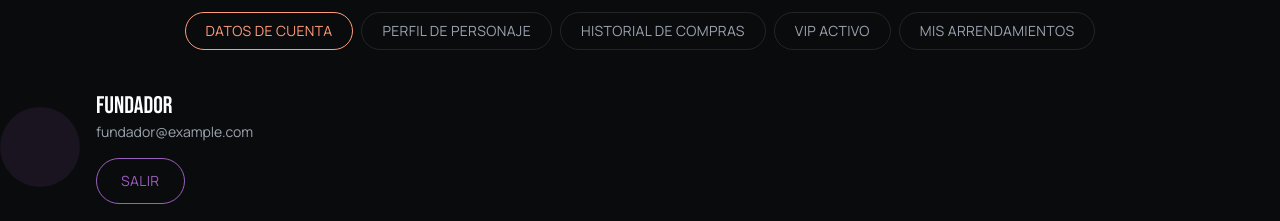
AccountTabs › renders real purchase rows from Supabase when the tab is selected
What coordinates should you click on to do the following:
click the tab "Historial de compras"
I would click on:
 (663, 31)
Its box is [560,12,766,50].
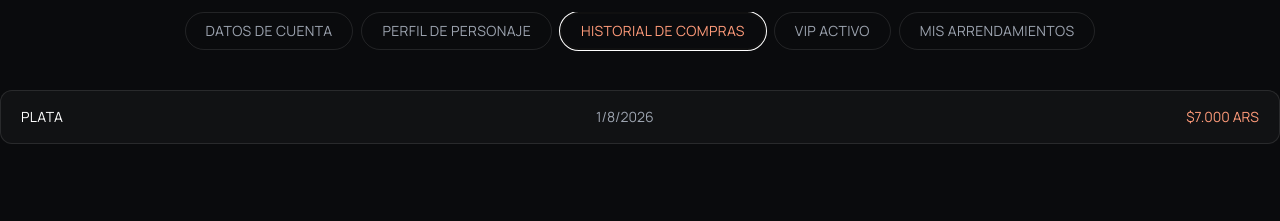
expect the text "plata" is shown: met, box [21,107,63,127]
